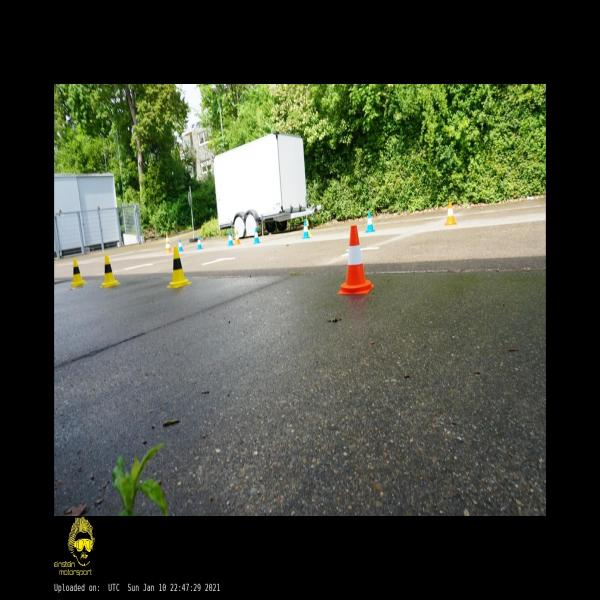blue_cone: (365, 212, 375, 233), (302, 221, 309, 240), (253, 229, 260, 244), (227, 231, 233, 246), (196, 236, 202, 250), (179, 239, 184, 251)
large_orange_cone: (165, 233, 172, 252)
orange_cone: (337, 226, 374, 294), (445, 202, 457, 226), (234, 230, 240, 245)
yellow_cone: (167, 247, 192, 288), (101, 254, 120, 288), (71, 258, 87, 287), (305, 219, 313, 236)
